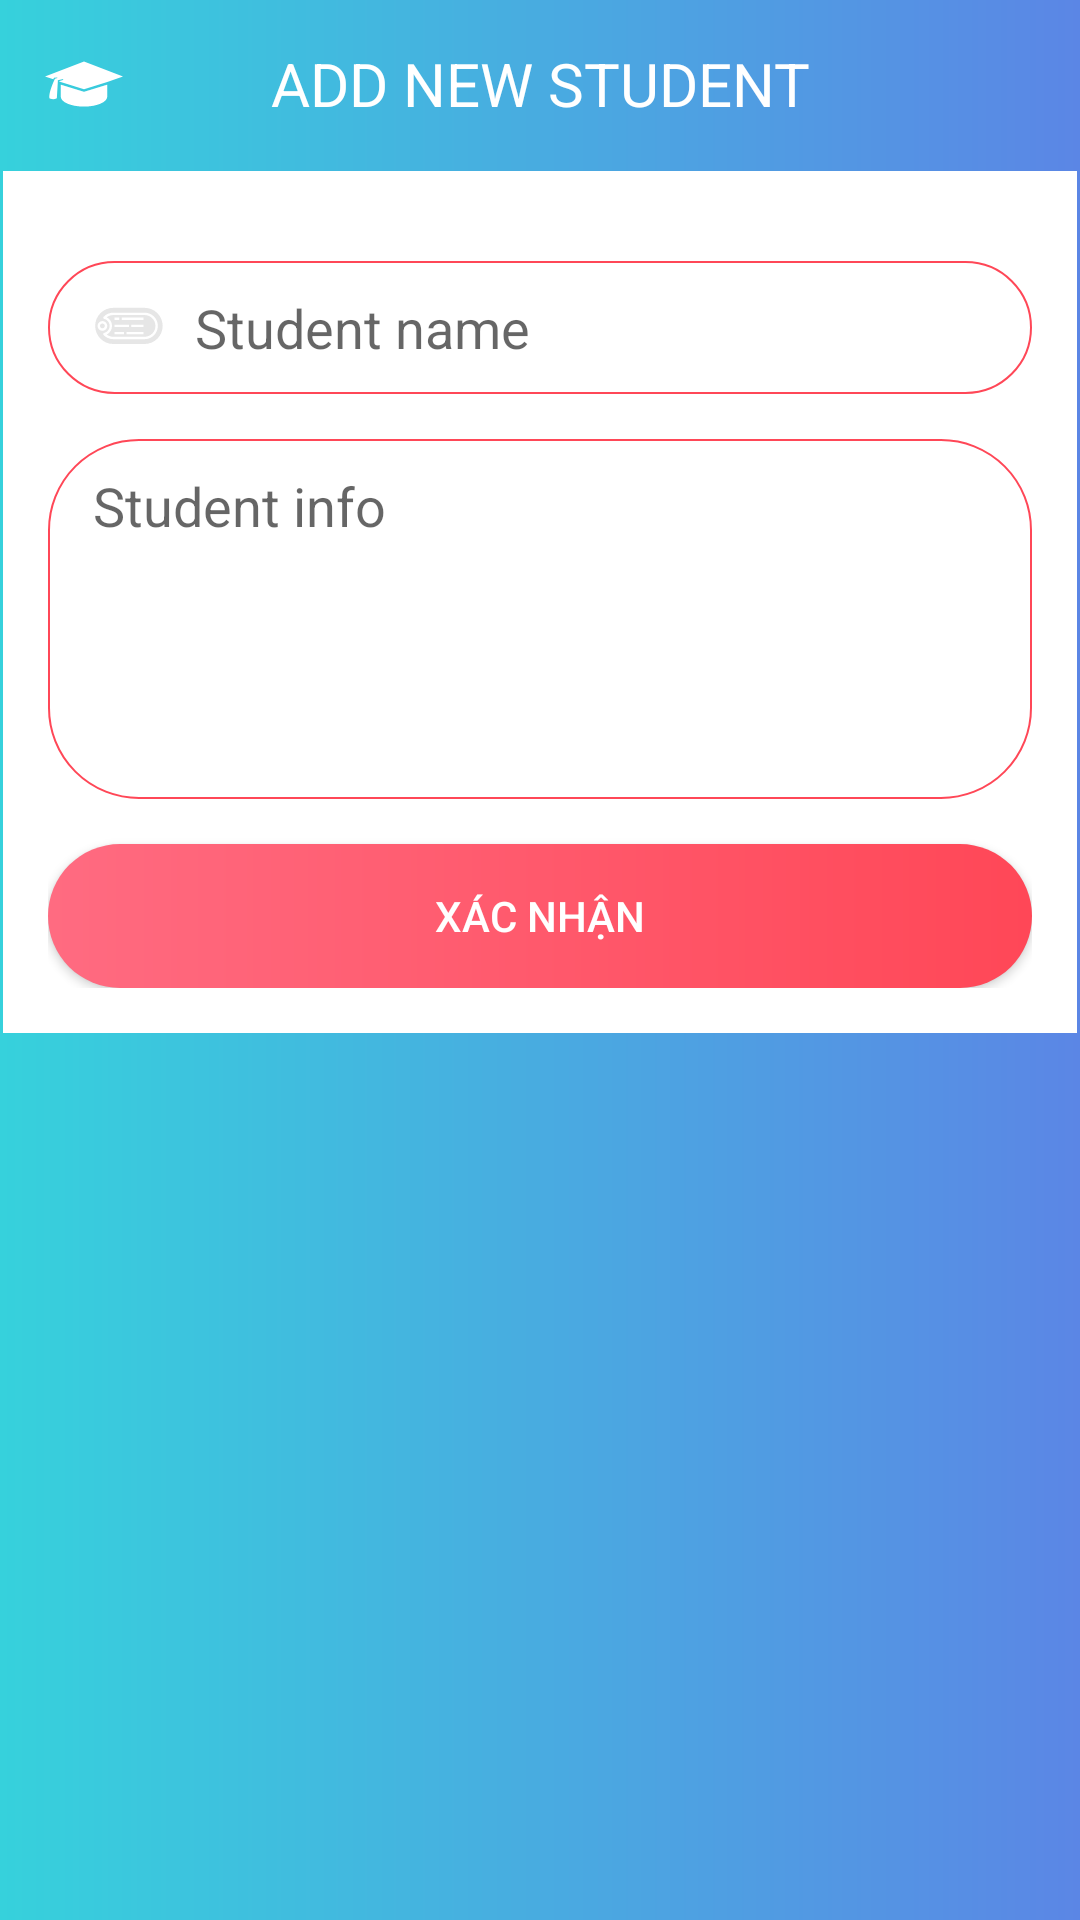

Named icons in this screenshot (1080w x 1920h) and their bounding boxes, bbox(x1, y1, x2, y2):
students cap: bbox(45, 61, 123, 107)
